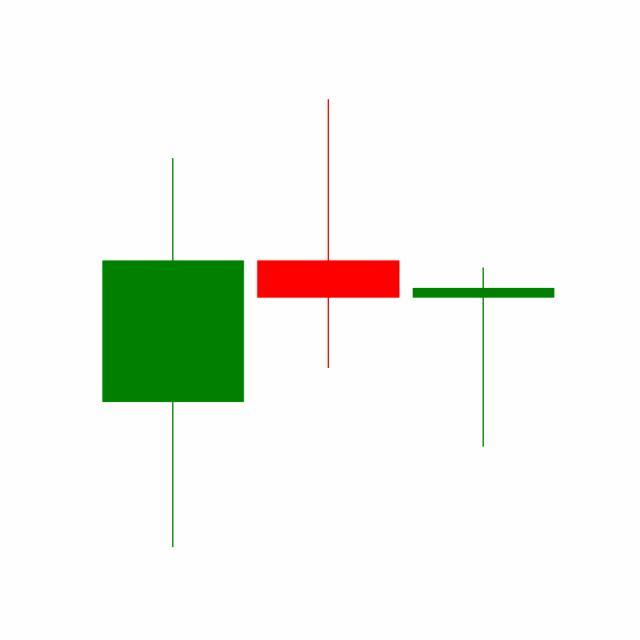Hammer: (406, 265, 562, 449)
